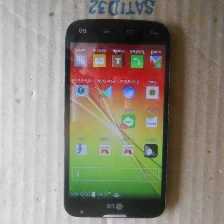phone: (60, 13, 171, 222)
